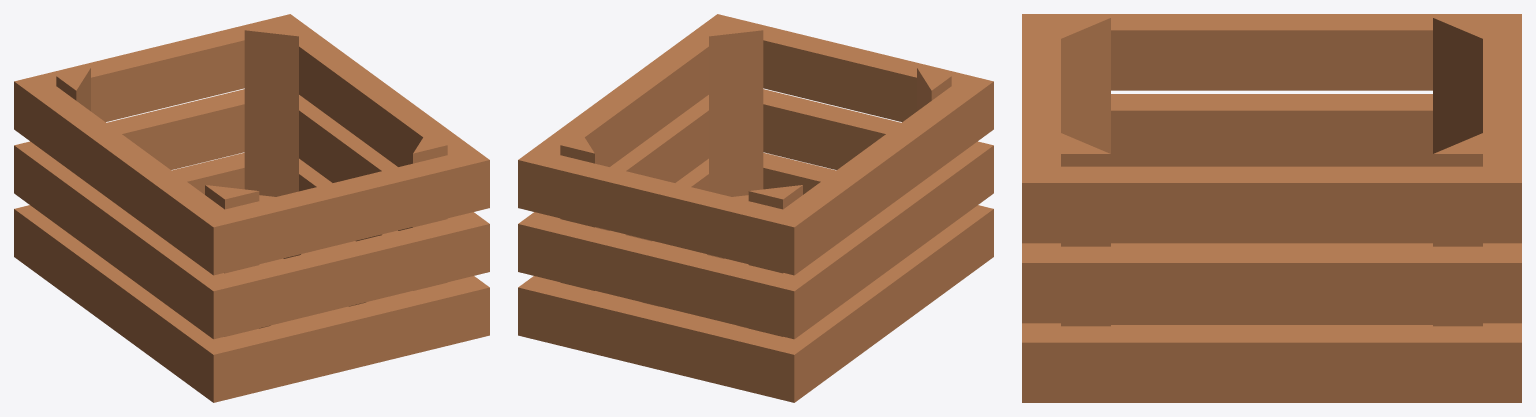
The model's file is crate.fbx.
3 views of the same model, side by side, from view 1: azimuth 30°, elevation 25°; view 2: azimuth 150°, elevation 25°; view 3: azimuth 270°, elevation 25° (orthographic). The views are drawn at different scales.
Visible parts, largest first — view 1: crate; view 2: crate; view 3: crate.
Part boxes in pixels (<box>): crate: <box>14,14,489,402</box>; crate: <box>518,14,993,402</box>; crate: <box>1022,14,1521,402</box>.
Size of what is drawn, in the model's own units: 100 by 80 by 51.34.
